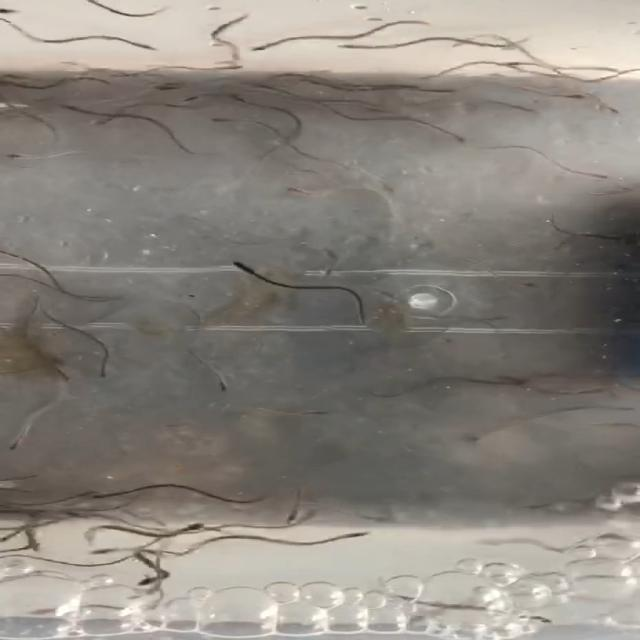active_glass_eel: (141, 78, 192, 96), (337, 526, 387, 542), (31, 598, 70, 618), (212, 258, 260, 274), (83, 364, 118, 385), (515, 610, 555, 627), (44, 362, 76, 383), (366, 283, 401, 302), (78, 546, 132, 558), (287, 180, 320, 197), (170, 523, 207, 538), (217, 377, 243, 398), (13, 538, 52, 552), (47, 96, 74, 115), (568, 425, 602, 440), (317, 40, 356, 53), (81, 117, 117, 131), (463, 429, 492, 446), (123, 40, 158, 54), (578, 167, 618, 179), (5, 432, 25, 456), (78, 491, 118, 503), (270, 513, 304, 527), (508, 376, 539, 391), (515, 276, 548, 290), (133, 570, 156, 590), (203, 112, 229, 129), (498, 105, 538, 116), (28, 496, 64, 508), (444, 40, 487, 50), (218, 90, 244, 106), (424, 62, 458, 74), (308, 409, 339, 422), (500, 57, 534, 68), (0, 2, 23, 17), (558, 93, 588, 104), (0, 78, 30, 89), (443, 133, 470, 145), (242, 42, 271, 53), (8, 153, 43, 162), (392, 82, 424, 91), (220, 61, 248, 71)
